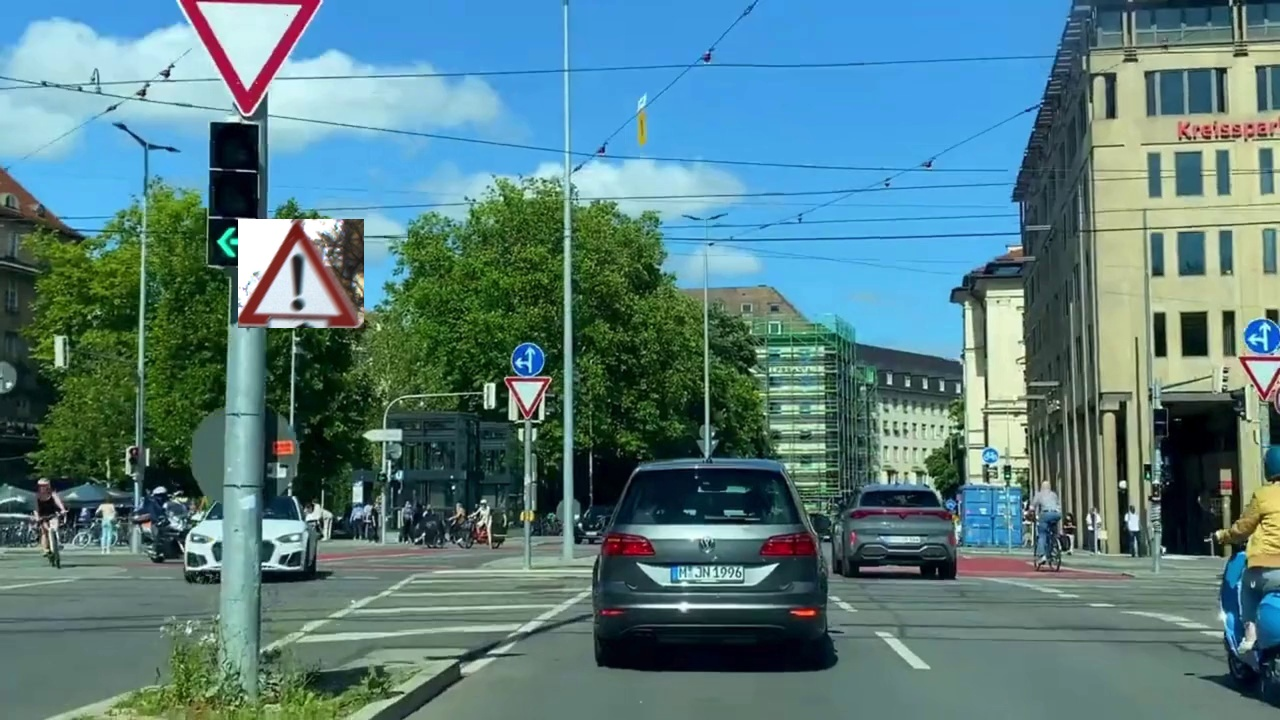Caution: (238, 219, 364, 328)
